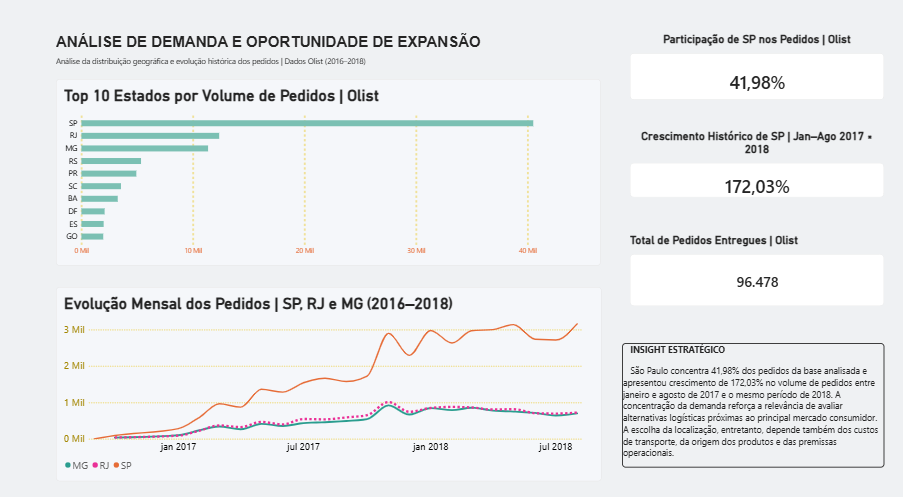

This screenshot's page, from the dashboard's own definition file:
{"tool":"powerbi","page":{"name":"Análise da Demanda e Oportunidade de Expansão ","canvas":[1920,1080],"ordinal":0},"visuals":[{"type":"lineChart","title":"Evolução Mensal dos Pedidos | SP, RJ e MG (2016–2018)","fields":{"Category":["raw demanda_mensal_estados.mes"],"Series":["raw demanda_mensal_estados.estado"],"Y":["raw demanda_mensal_estados.Pedidos Mensais (Zero)"]},"box":[120,623.3,1160,413.3],"z":0},{"type":"clusteredBarChart","title":"Top 10 Estados por Volume de Pedidos | Olist","fields":{"Category":["raw clientes.customer_state"],"Y":["raw pedidos.Total Pedidos Entregues"]},"box":[120,180,1158.3,396.7],"z":1000},{"type":"cardVisual","title":"Participação de SP nos Pedidos | Olist","fields":{"Data":["raw clientes.Participação SP (%)"]},"box":[1340,82.5,540,142],"z":2000},{"type":"cardVisual","title":"Crescimento Histórico de SP | Jan–Ago 2017 × 2018","fields":{"Data":["raw clientes.Crescimento SP (%)"]},"box":[1340,290,540,143.3],"z":3000},{"type":"textbox","box":[120,82,1038,50],"z":4000},{"type":"textbox","box":[1322.5,742.5,557.5,265],"z":5000},{"type":"cardVisual","title":"Total de Pedidos Entregues | Olist","fields":{"Data":["raw pedidos.Total Entregues Formatado"]},"box":[1340,510,540,153.3],"z":6000},{"type":"textbox","box":[120,132.5,700,37.5],"z":7000}]}

Visuals, with their boxes in screenshot pixels (x1, y1, x2, y2), scaled from the page's 1920x1080 canvas onto the 903x497 screenshot:
"Evolução Mensal dos Pedidos | SP, RJ e MG (2016–2018)" lineChart: [56, 287, 602, 477]
"Top 10 Estados por Volume de Pedidos | Olist" clusteredBarChart: [56, 83, 601, 265]
"Participação de SP nos Pedidos | Olist" cardVisual: [630, 38, 884, 103]
"Crescimento Histórico de SP | Jan–Ago 2017 × 2018" cardVisual: [630, 133, 884, 199]
textbox: [56, 38, 545, 61]
textbox: [622, 342, 884, 464]
"Total de Pedidos Entregues | Olist" cardVisual: [630, 235, 884, 305]
textbox: [56, 61, 386, 78]
